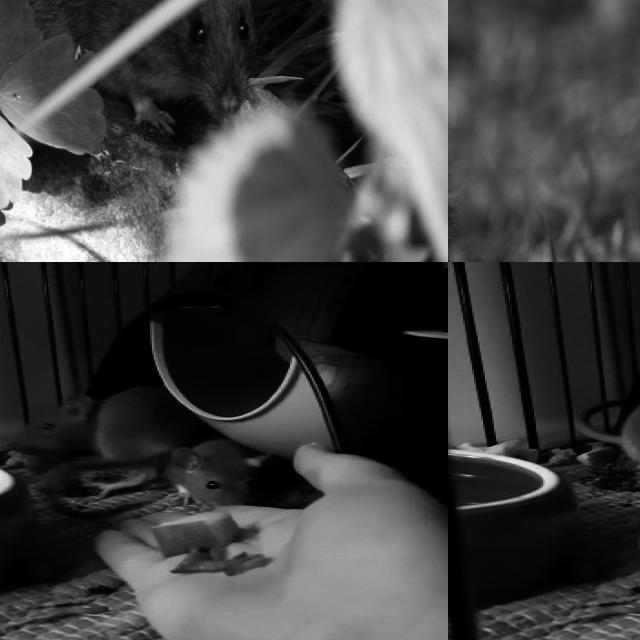rat: (0, 0, 250, 126), (168, 439, 269, 510)
